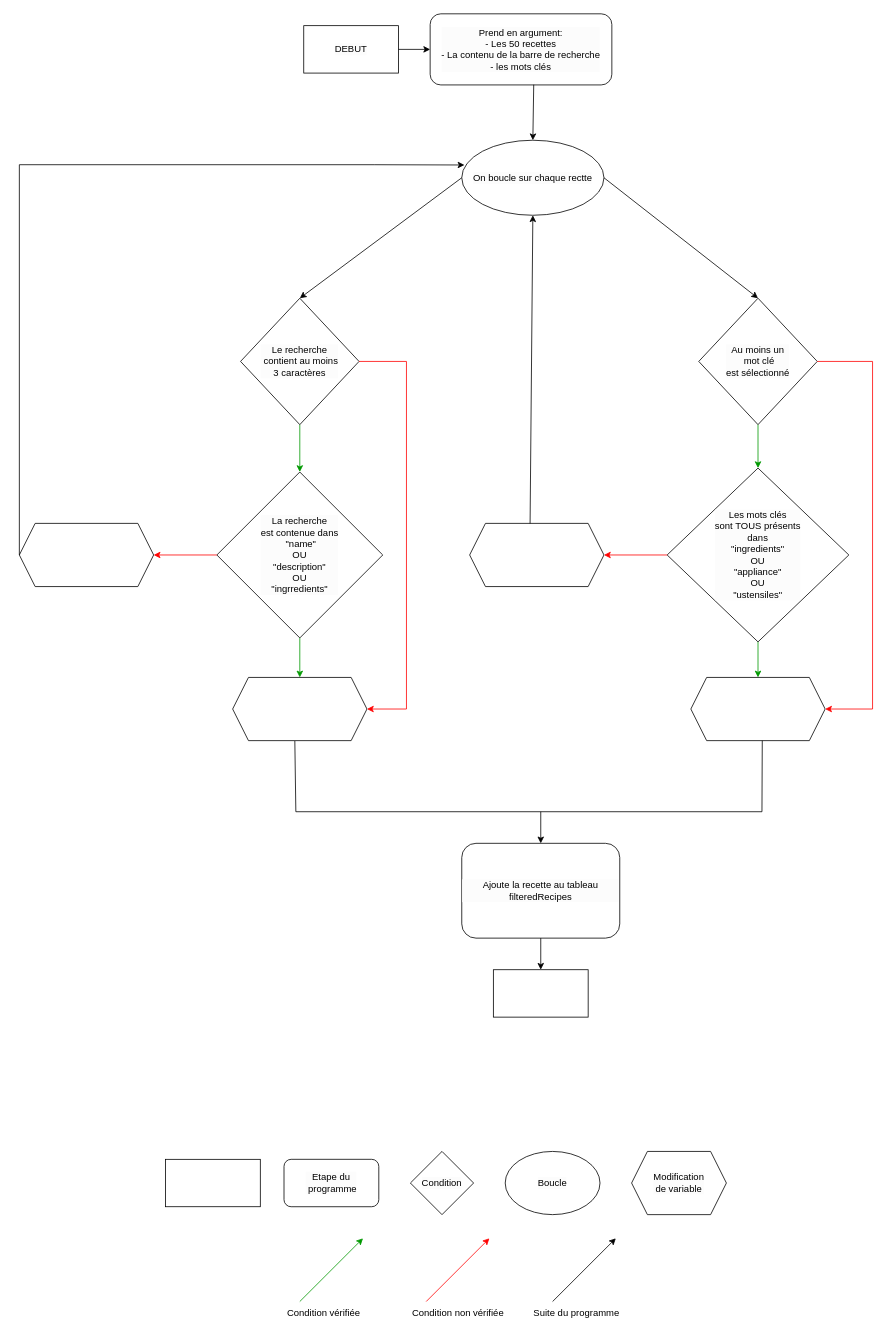
The diagram is 893 pixels wide and 1339 high, and some of its shapes have lost their labels. Each missing label, with the centre of its shape:
areKeyWordsMatching vaut FALSE: point 536,555
areKeyWordsMatching vaut TRUE: point 757,709
Début ou fin du programme: point 212,1183
FIN: point 540,993
isUserSearchMatching vaut FALSE: point 86,555
isUserSearchMatching vaut TRUE: point 299,709
